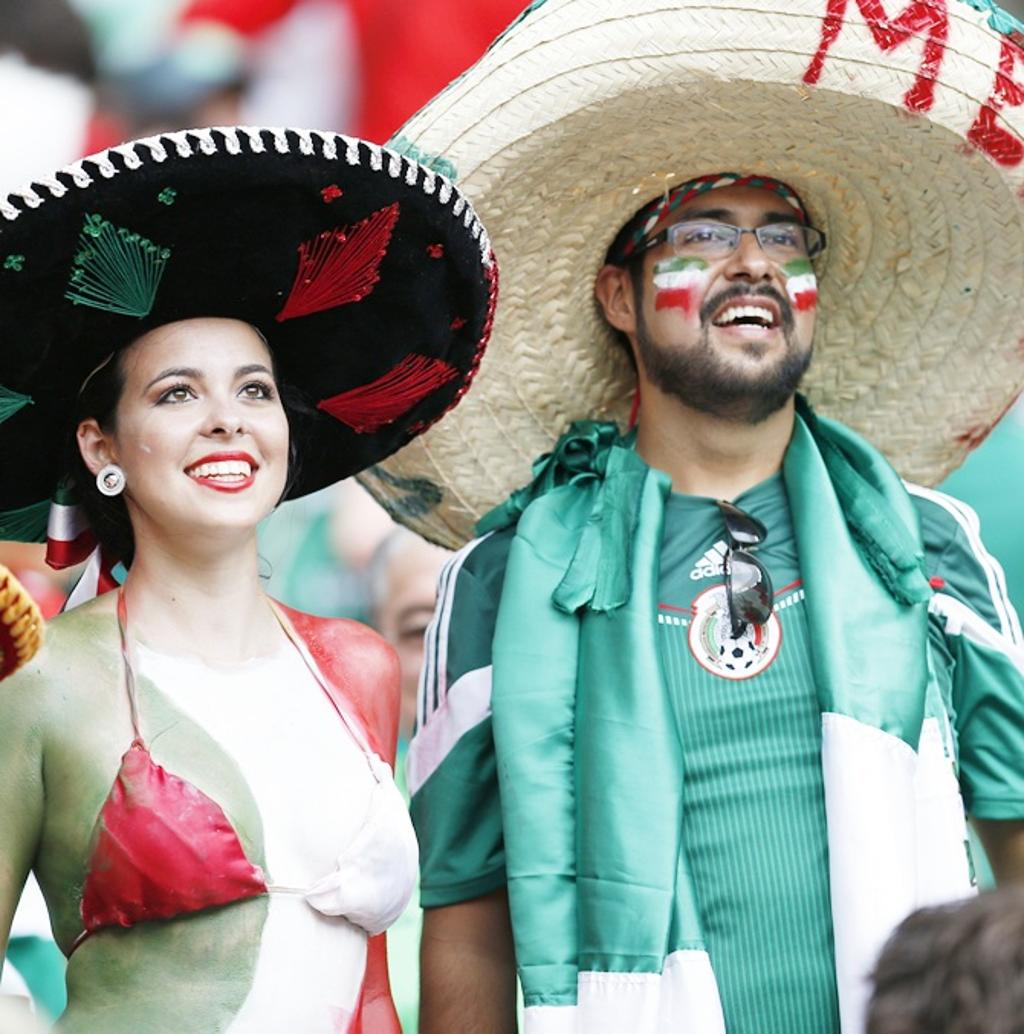face: (646, 170, 818, 406), (131, 335, 291, 529)
